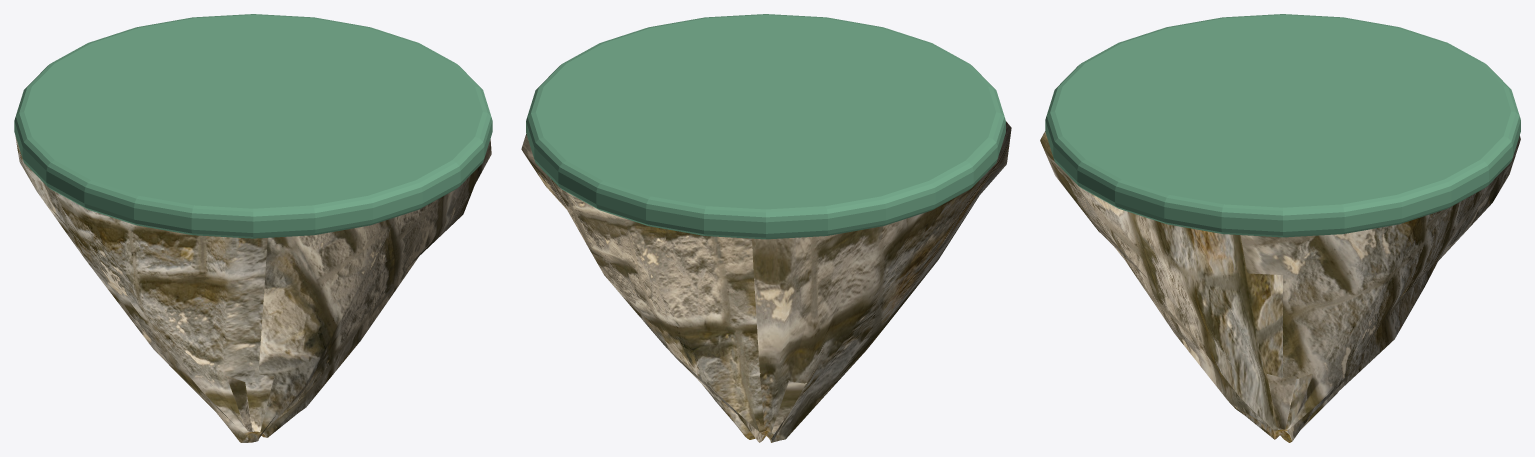
File: floating_island.glb
3 views of the same model, side by side, from view 1: azimuth 30°, elevation 25°; view 2: azimuth 150°, elevation 25°; view 3: azimuth 270°, elevation 25° (orthographic).
Visible parts, largest first — view 1: floating_island; view 2: floating_island; view 3: floating_island.
Boxes of the visible parts, <box> form: floating_island: <box>14,14,492,442</box>; floating_island: <box>521,14,1011,442</box>; floating_island: <box>1040,14,1520,442</box>.
Size of the model in its own units: 4.51 by 3.4 by 4.53.
Materials: 2 (1 with a texture image).
